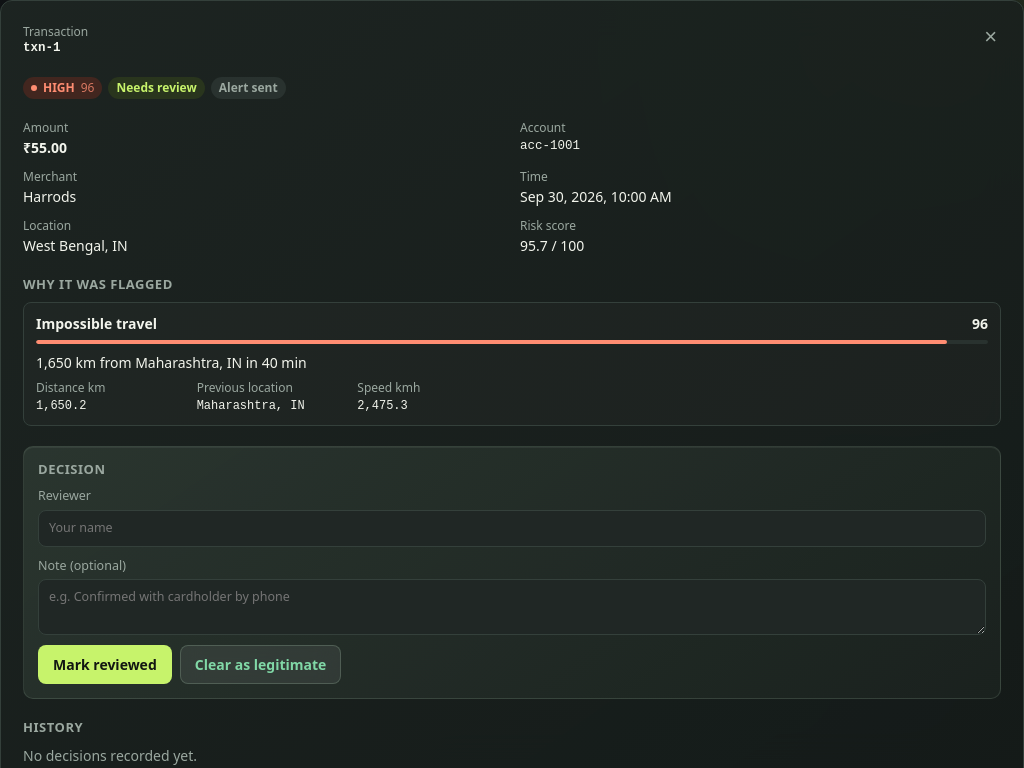
Scenario: TransactionDetail › shows server errors and keeps the note
This screenshot has width=1024, height=768.
Type "Ana" into the field labelled "Reviewer".
click(512, 528); type("Ana")  # box left=38, top=510, right=986, bottom=547
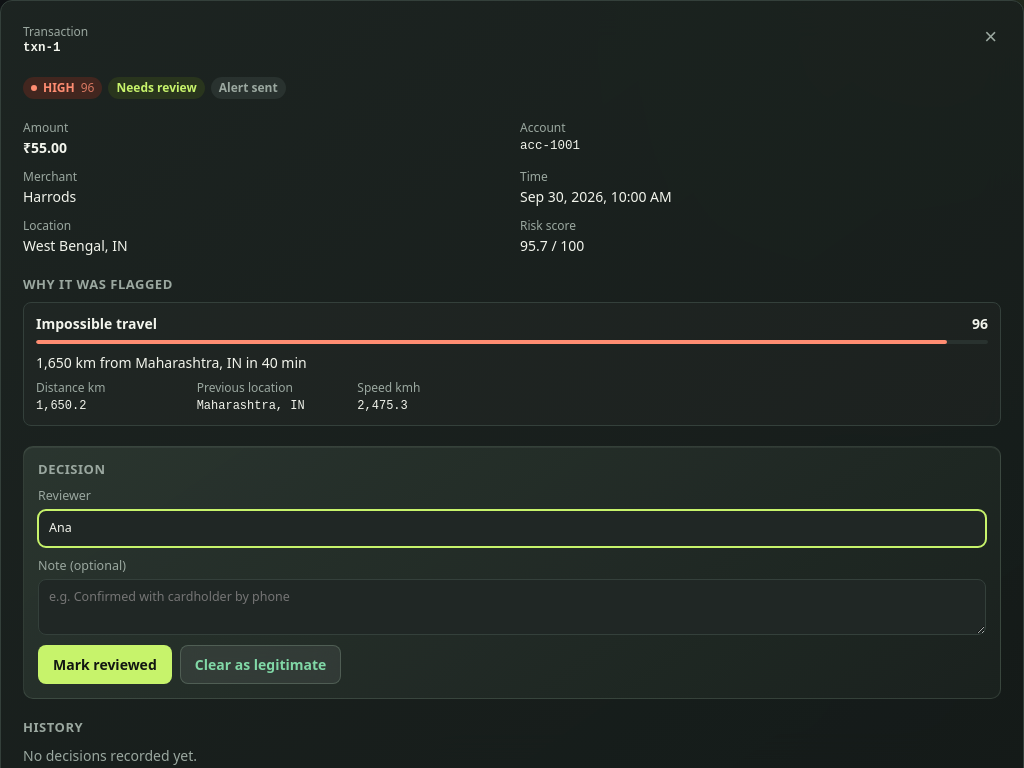
Type "hmm" into the text box labelled "Note (optional)".
click(512, 607); type("hmm")  # box left=38, top=579, right=986, bottom=635
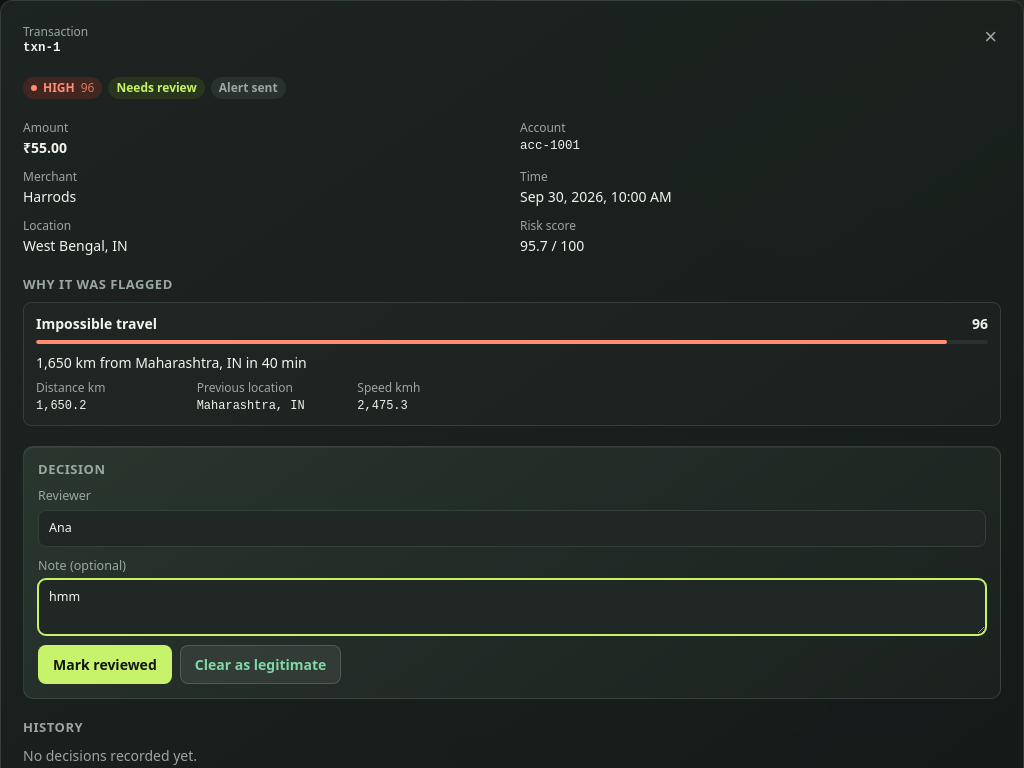
Click the button "Mark reviewed".
click(105, 664)  # box left=38, top=645, right=172, bottom=684
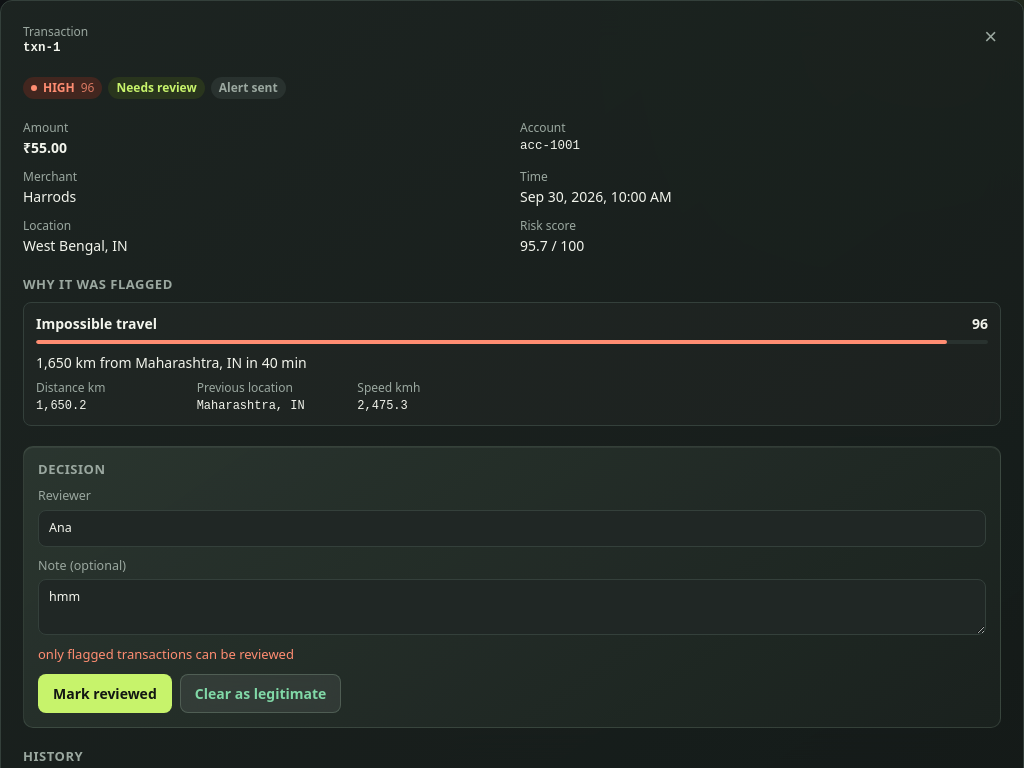
Expected: the message shows "only flagged transactions", left=38, top=645, right=294, bottom=663
